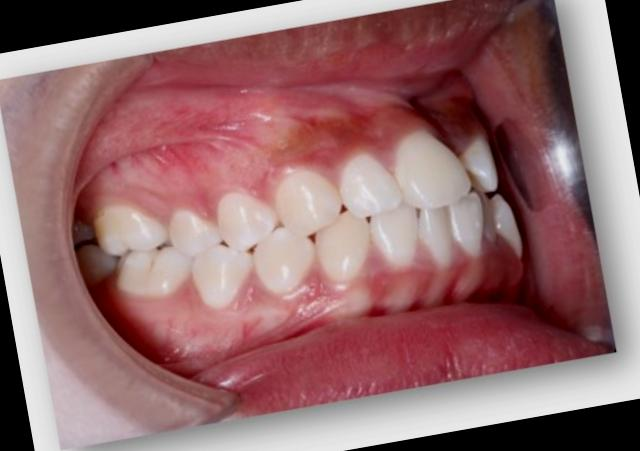canine class I: (236, 154, 384, 312)
molar class III 1/2: (86, 187, 198, 312)
